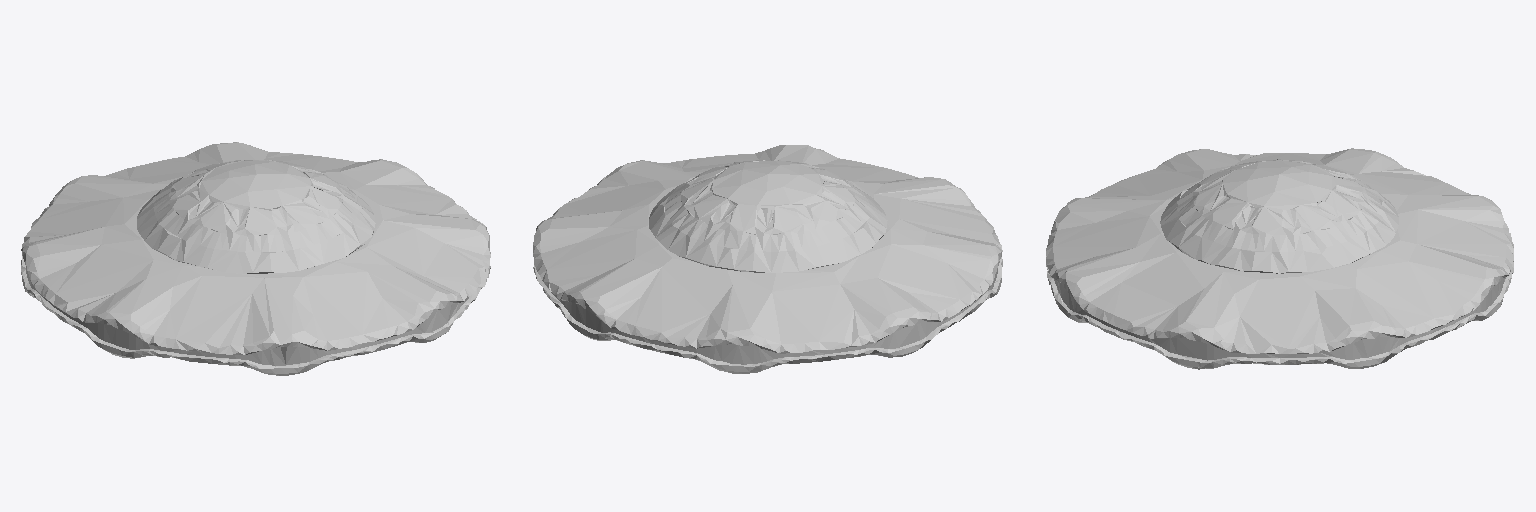
The model's file is frame_053.obj.
3 renders of one model, left to right at view 1: azimuth 30°, elevation 25°; view 2: azimuth 150°, elevation 25°; view 3: azimuth 270°, elevation 25°, orthographic.
Visible parts, largest first — view 1: 13884_UFO_Saucer_v1_l2; view 2: 13884_UFO_Saucer_v1_l2; view 3: 13884_UFO_Saucer_v1_l2.
Part boxes in pixels (x1,y1,x2,y2): 13884_UFO_Saucer_v1_l2: (21,142,490,375); 13884_UFO_Saucer_v1_l2: (533,145,1002,373); 13884_UFO_Saucer_v1_l2: (1046,148,1513,369).
Bounding box in the file's own units: 12.69 × 4.88 × 12.7.